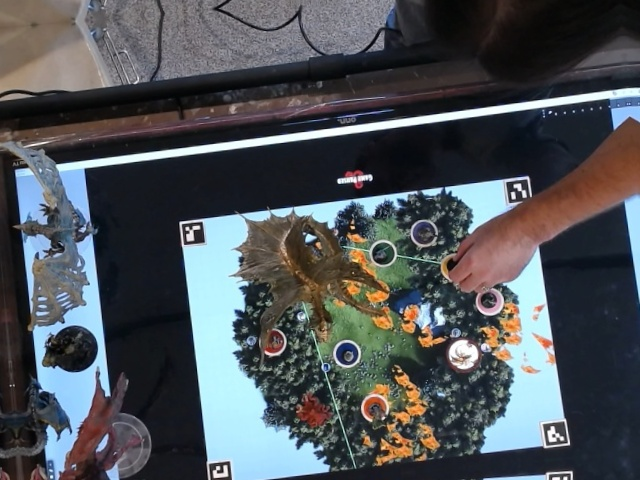blue: (328, 332, 363, 370)
green: (364, 236, 399, 270)
orange: (351, 388, 397, 427)
pink: (471, 282, 508, 317)
red: (252, 323, 290, 360)
violet: (406, 216, 441, 249)
yellow: (434, 249, 476, 286)
